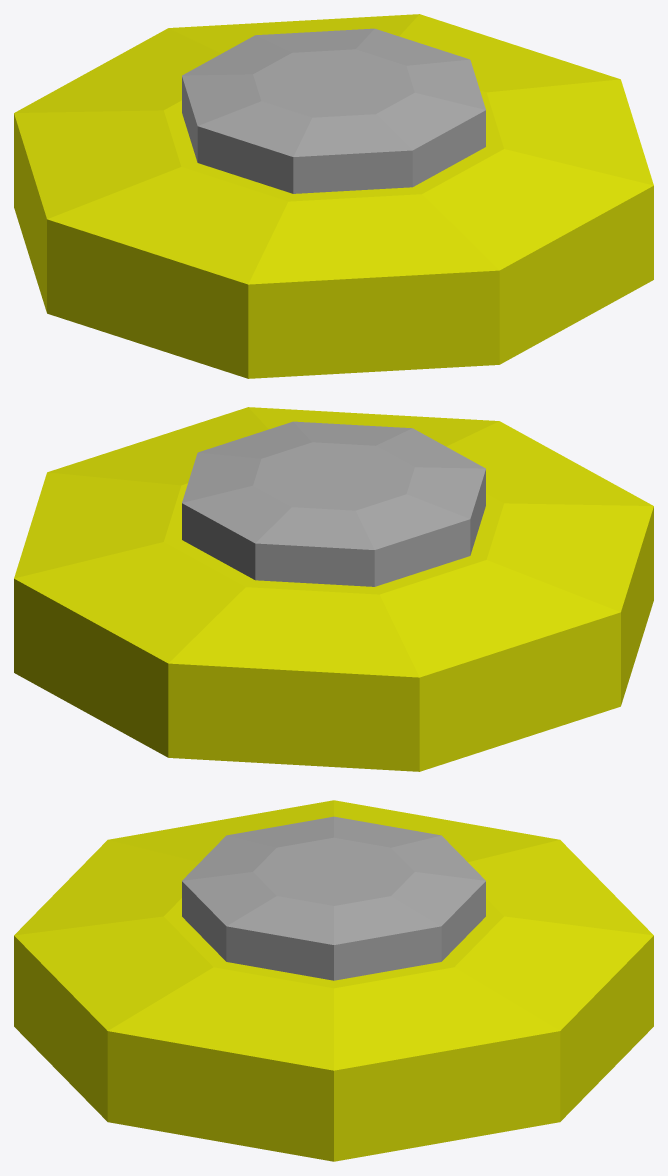
Rendered from Mine.fbx.
The picture shows the model from 3 angles, top to bottom: view 1: azimuth 30°, elevation 25°; view 2: azimuth 150°, elevation 25°; view 3: azimuth 270°, elevation 25°; orthographic projection. The views are drawn at different scales.
Visible parts, largest first — view 1: pCylinder1, pCylinder2; view 2: pCylinder1, pCylinder2; view 3: pCylinder1, pCylinder2.
Boxes of the visible parts, x1,y1,x2,y2 form: pCylinder1: (14,14,653,378); pCylinder2: (182,28,485,193); pCylinder1: (14,407,653,771); pCylinder2: (182,421,485,586); pCylinder1: (14,800,653,1161); pCylinder2: (182,816,485,980).
Bounding box in the file's own units: 3.86 × 1.03 × 3.86.
